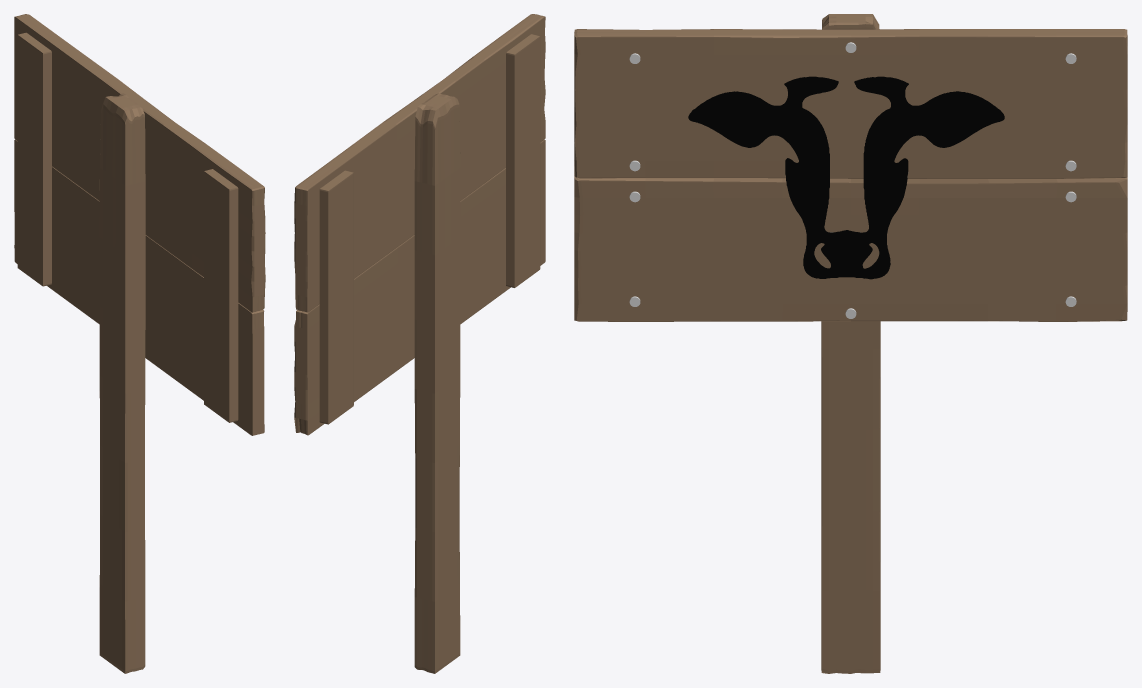
The model's file is signcow.fbx.
3 renders of one model, left to right at view 1: azimuth 30°, elevation 25°; view 2: azimuth 150°, elevation 25°; view 3: azimuth 270°, elevation 25°, orthographic. The views are drawn at different scales.
Parts seen in each view (by area): view 1: Cube.001, Cube.002, Cube.003, Cube.004; view 2: Cube.001, Cube.002, Cube.003, Cube.004; view 3: Cube.001, Cube.002, original-0fc40e5aa96eae0dcaf706c1db37cc15.
Part boxes in pixels (x1,y1,x2,y2): Cube.001: (14, 14, 265, 435); Cube.002: (99, 93, 145, 673); Cube.003: (204, 169, 238, 422); Cube.004: (17, 32, 51, 286); Cube.001: (294, 14, 545, 435); Cube.002: (414, 93, 460, 673); Cube.003: (506, 34, 540, 287); Cube.004: (319, 170, 353, 424); Cube.001: (574, 29, 1127, 321); Cube.002: (821, 14, 880, 673); original-0fc40e5aa96eae0dcaf706c1db37cc15: (688, 76, 1004, 279).
Size of the model in its own units: 43.66 by 599 by 462.
